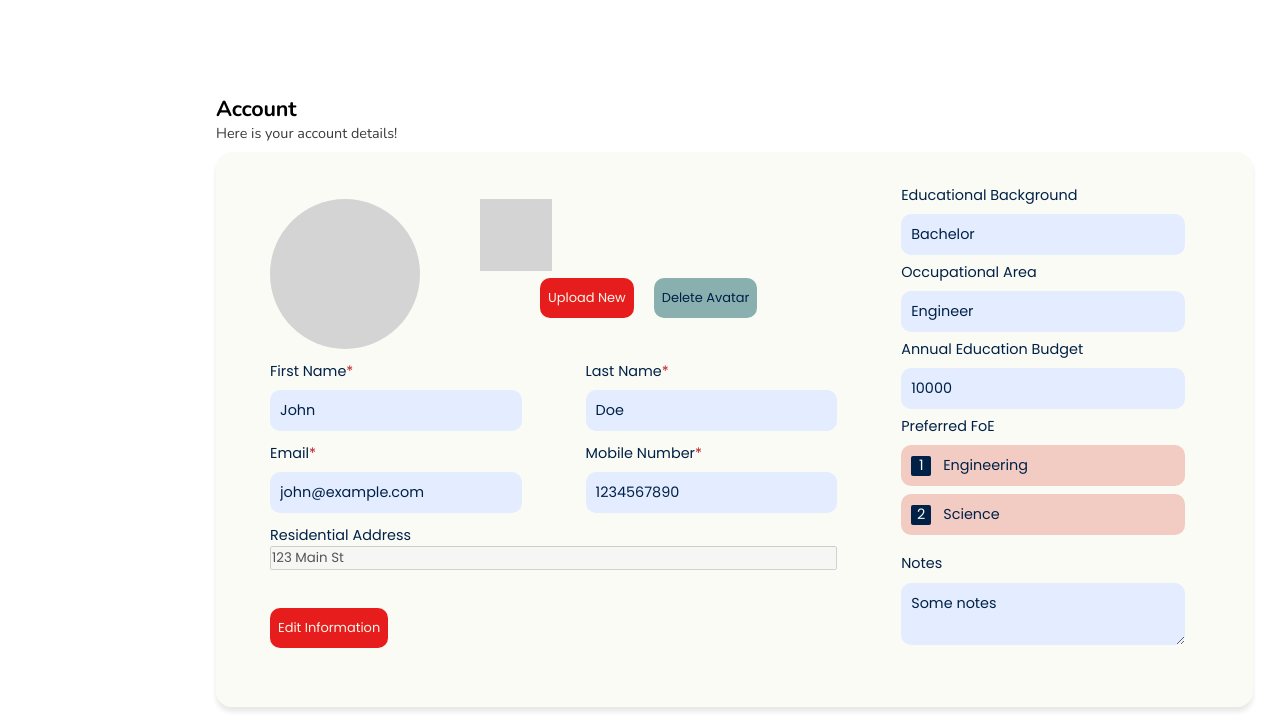
Test: AccountPage Component › Clicking on the "Edit Information" button should allow you to edit the information.
Click the button "Edit Information". click: (329, 628)
box: [270,608,388,648]
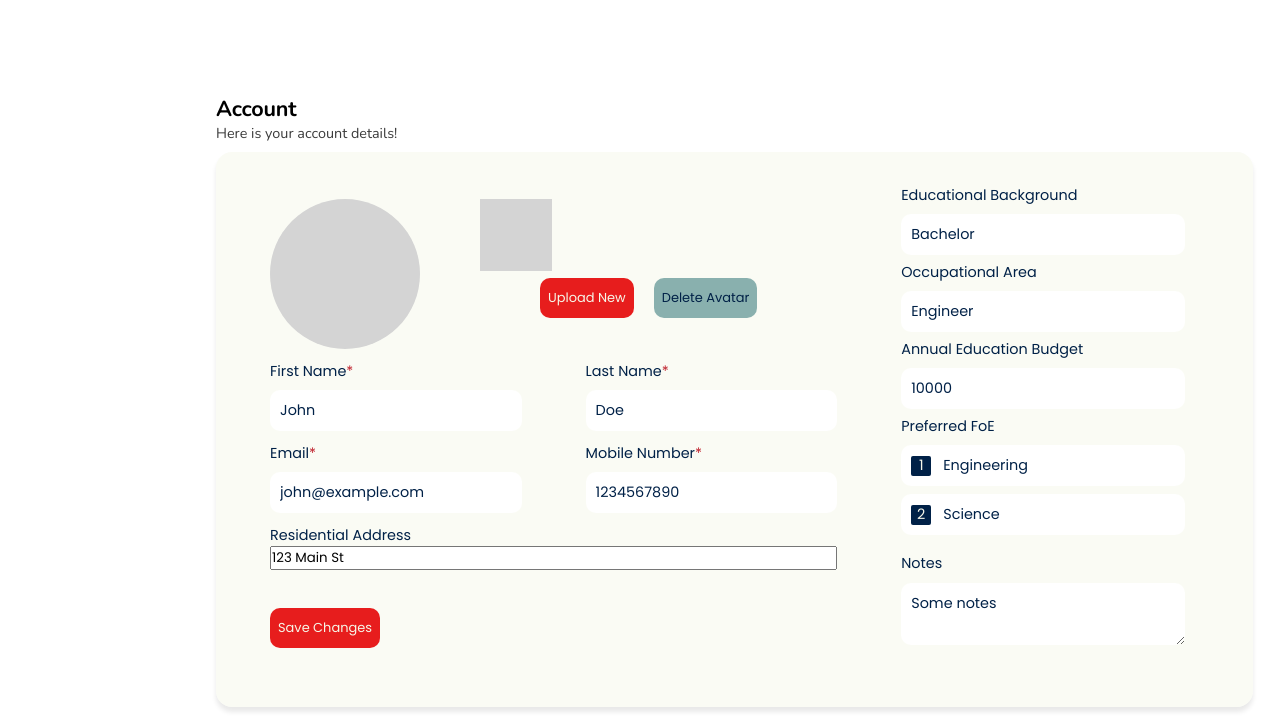
Check: the field labelled "First Name*" is enabled, box [270,390,522,431]
Check: the button "Save Changes" is shown, box [270,608,380,648]
